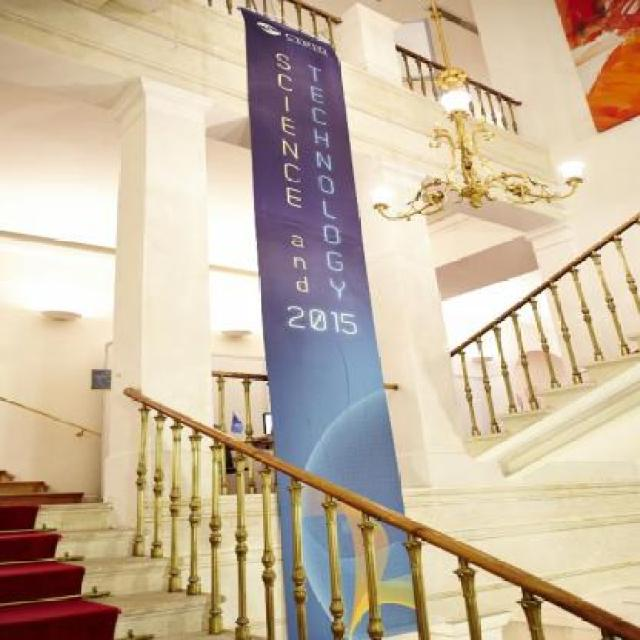stair: (0, 469, 269, 640), (466, 320, 640, 478)
